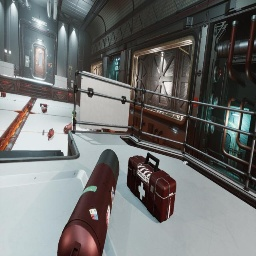0: (72, 109, 76, 130), (41, 105, 44, 110), (92, 129, 97, 132), (87, 129, 92, 131)
EmergencyPhone ,: (50, 62, 52, 67)
FireAlarm ,: (193, 97, 198, 107), (48, 63, 50, 67)
FireExtinguisher ]: (47, 128, 54, 140), (40, 103, 49, 108), (42, 108, 47, 113)
FirstAidBox ,: (127, 152, 176, 223), (27, 103, 32, 110), (1, 91, 6, 97)
NitrogenTank ,: (57, 149, 119, 256), (63, 122, 72, 134), (103, 128, 108, 132), (92, 129, 97, 132), (97, 129, 101, 132), (108, 129, 109, 133)
SafetySwitchPanel ,: (25, 56, 30, 67)
